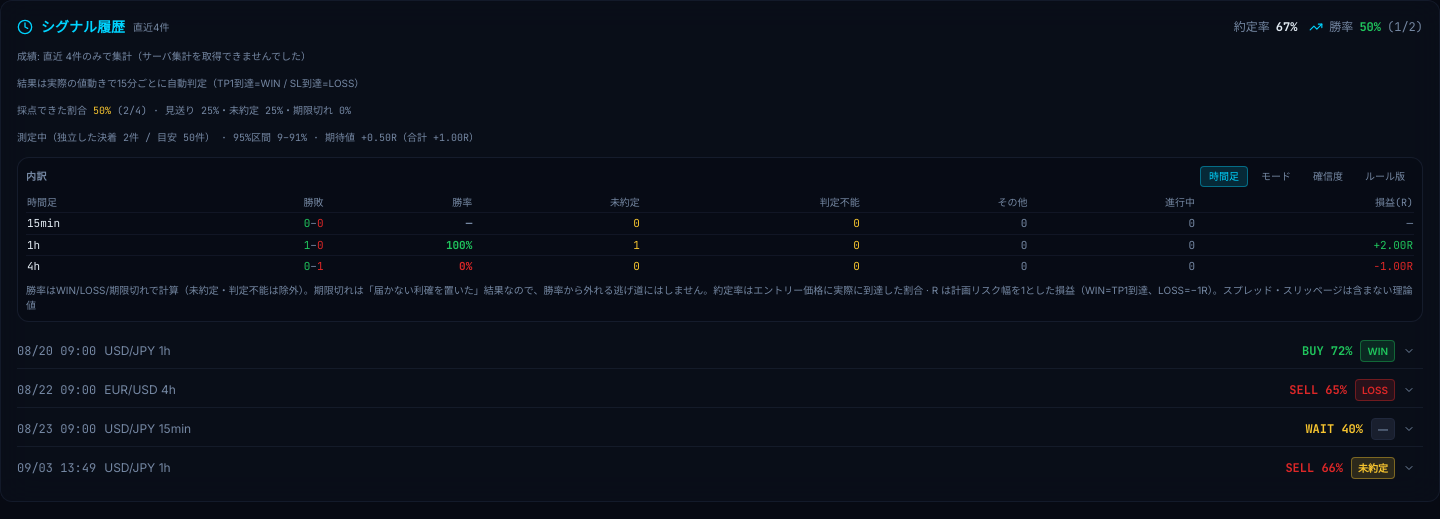
Test: AnalysisHistory (DB records) › breaks the record down by timeframe, mode and confidence
Expected: the text "4h" is shown, [26,256,209,276]
Click the button "モード" at (1276, 176), box [1252,166,1300,187]
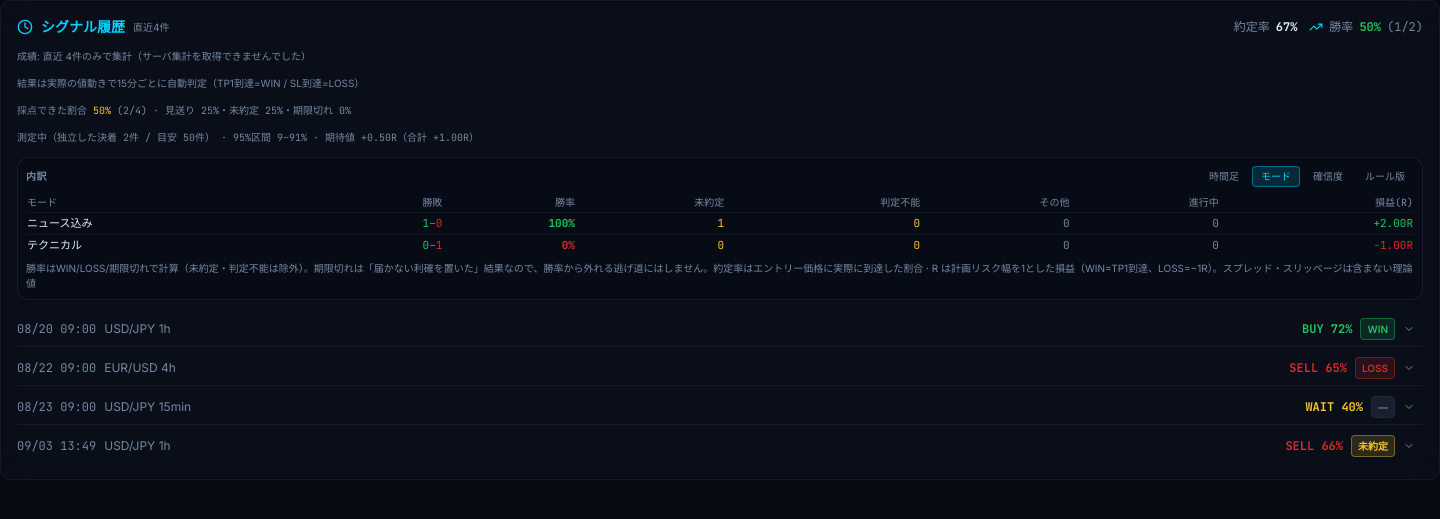
Now the text "ニュース込み" is shown, box [26,212,341,234]
Now the text "テクニカル" is shown, box [26,234,341,255]
Click the button "確信度" at (1328, 176), box [1304,166,1352,187]
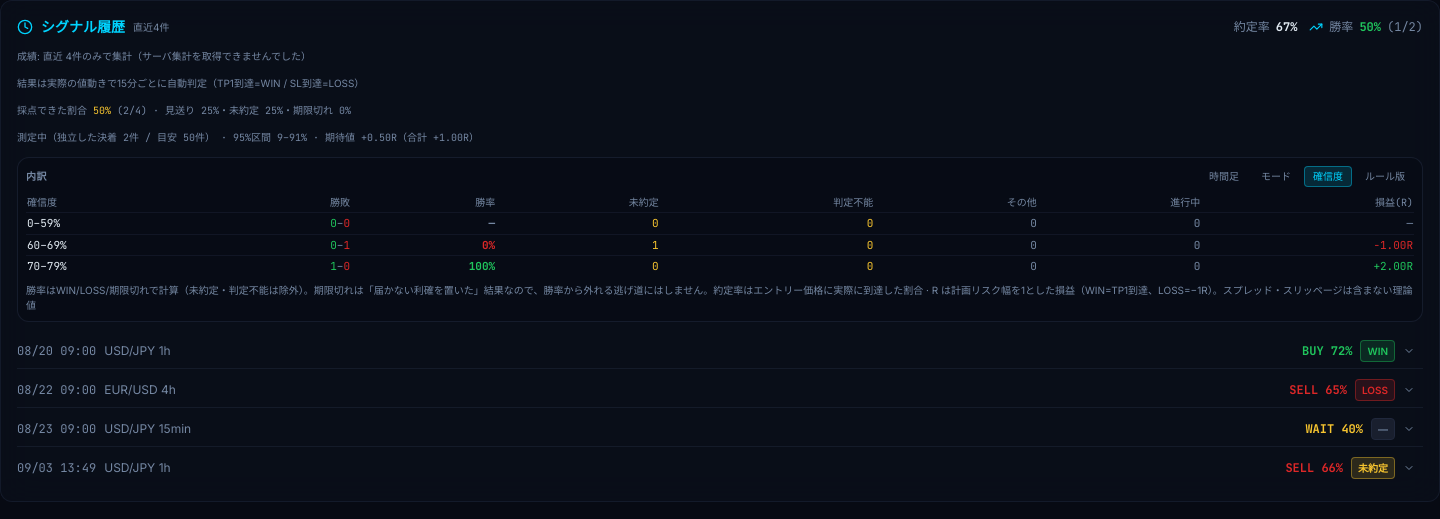
Now the text "70–79%" is shown, box [26,256,239,276]
